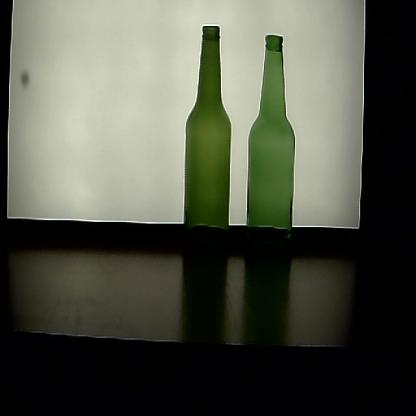Can: (178, 22, 234, 269), (242, 33, 298, 269)
